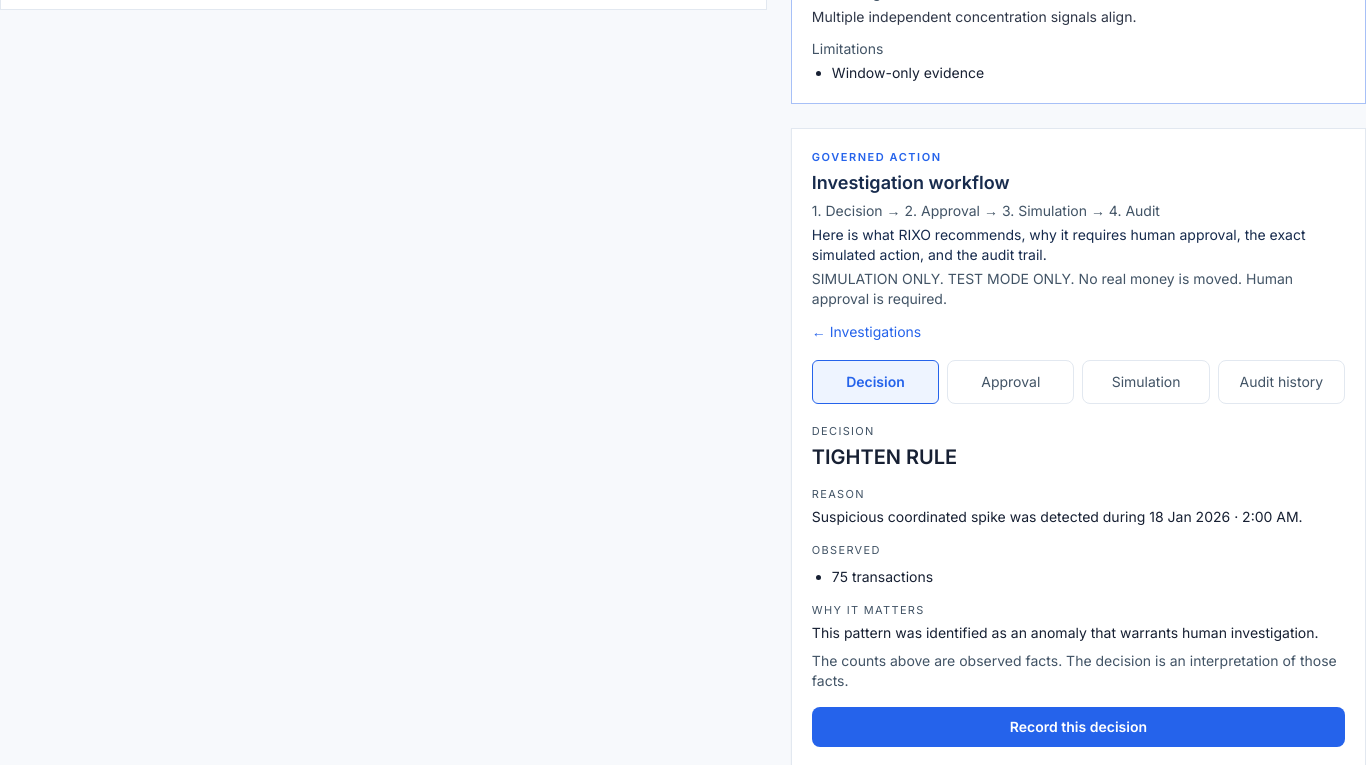
Test: Simulation tab stays gated until approval
This screenshot has width=1366, height=765.
(page scrolled)
Expected: the button "Record this decision" is shown, [812, 706, 1345, 746]
What coordinates should you click on to do the following:
click the tab "Simulation"
I would click on:
 (1146, 382)
Its box is [1082, 360, 1210, 404].
(page scrolled)
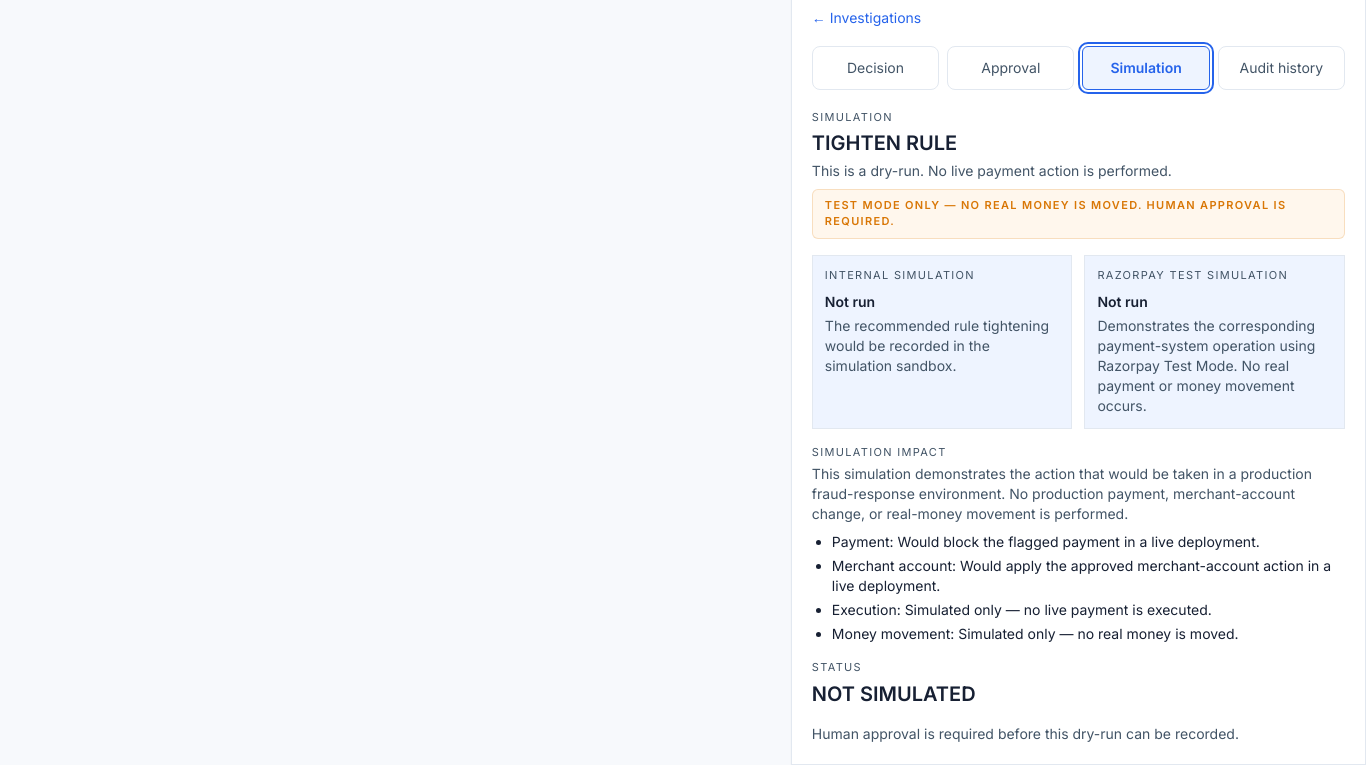
Expected: the text "NOT SIMULATED" is shown, [812, 682, 976, 706]
Expected: the text "Human approval is required before this dry-run can be recorded." is shown, [812, 725, 1239, 742]
